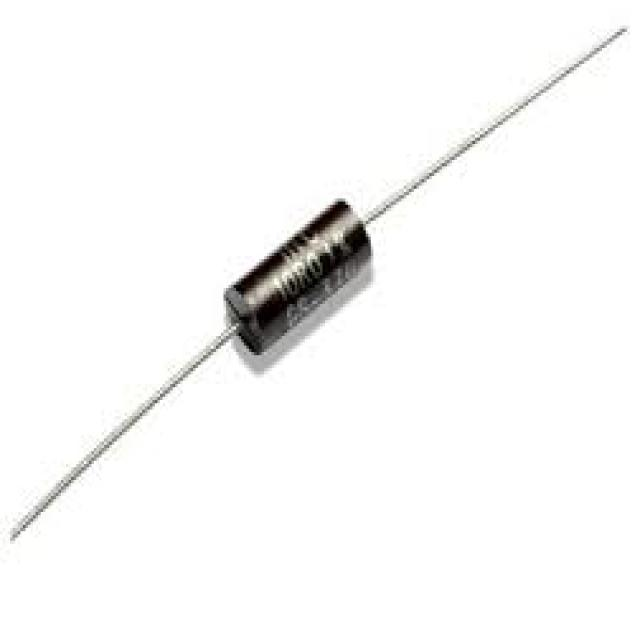Resistor: (222, 198, 374, 358)
